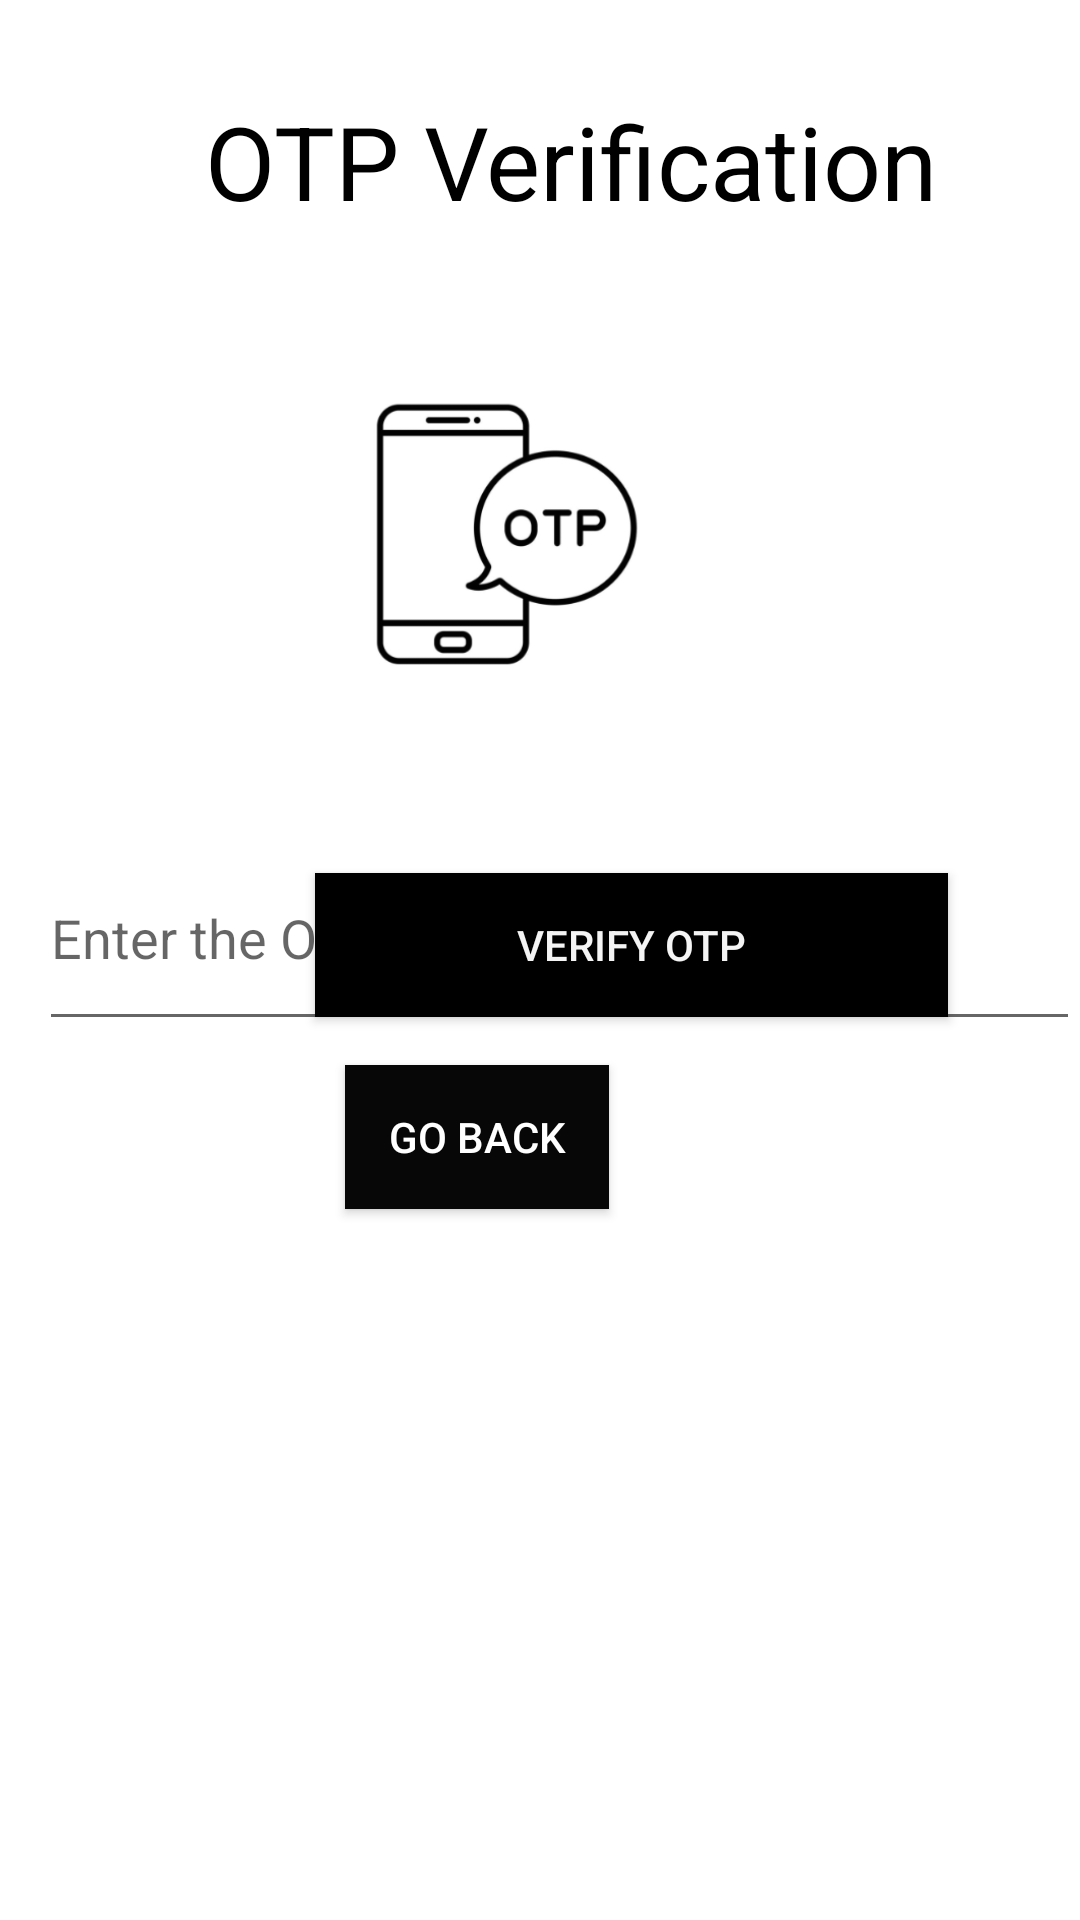

Icons on this 1080x1920 Android screen, each with the point to tap as (x,y):
ver: (507,534)
